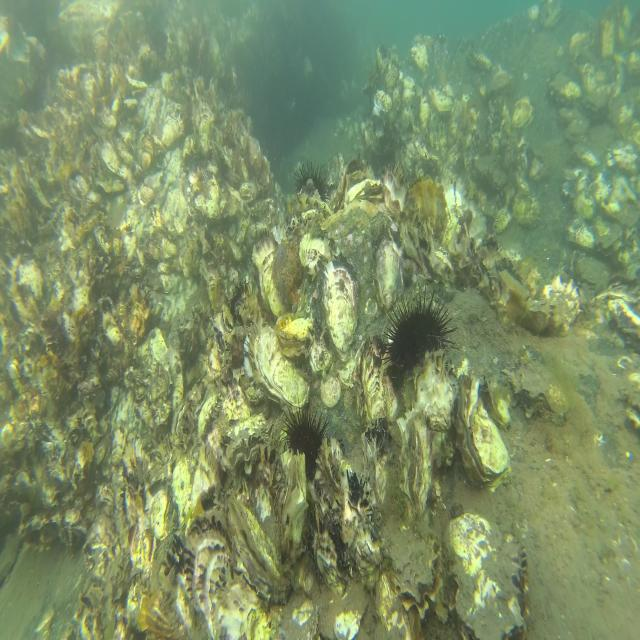echinus: (380, 285, 458, 376), (282, 398, 329, 481), (294, 162, 331, 204)
